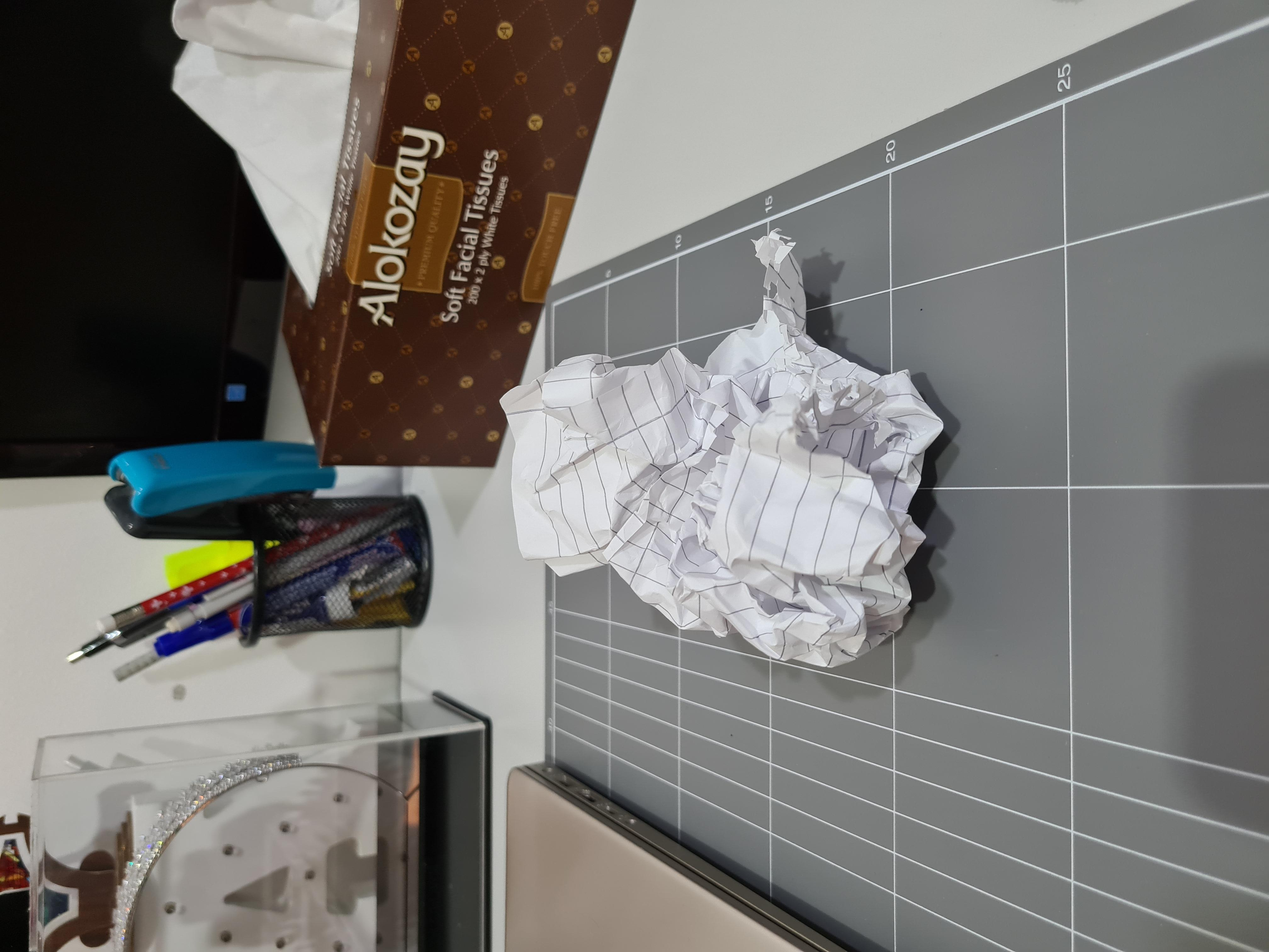paper: (358, 385, 957, 697)
